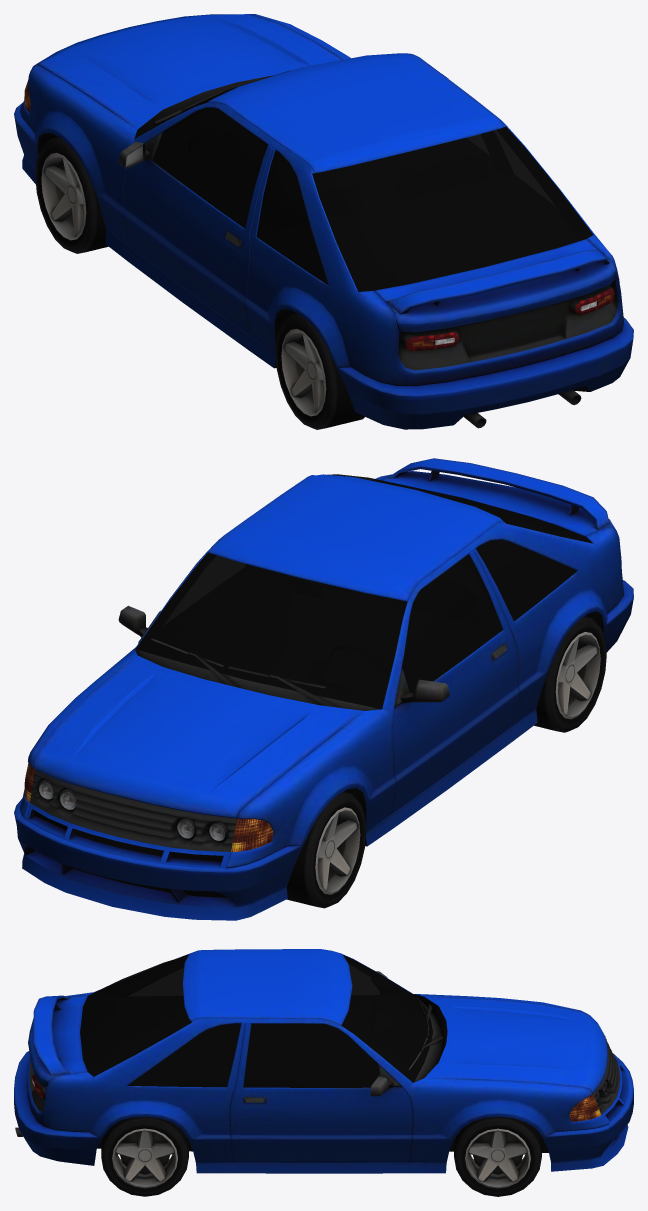
File: c_coupe.glb
3 views of the same model, one above another, from view 1: azimuth 30°, elevation 25°; view 2: azimuth 150°, elevation 25°; view 3: azimuth 270°, elevation 25° (orthographic). The views are drawn at different scales.
Visible parts, largest first — view 1: body|Body_0, body|glass, body|Wheel_0, body|Optics_0; view 2: body|Body_0, body|glass, body|Wheel_0, body|Optics_0; view 3: body|Body_0, body|glass, body|Wheel_0, body|Optics_0.
Boxes of the visible parts, x1=… form: body|Body_0: x1=14, y1=14, x2=633, y2=429; body|glass: x1=140, y1=70, x2=593, y2=291; body|Wheel_0: x1=35, y1=137, x2=364, y2=429; body|Optics_0: x1=24, y1=80, x2=614, y2=351; body|Body_0: x1=14, y1=458, x2=633, y2=920; body|glass: x1=135, y1=474, x2=592, y2=709; body|Wheel_0: x1=286, y1=616, x2=606, y2=908; body|Optics_0: x1=24, y1=763, x2=273, y2=851; body|Body_0: x1=14, y1=949, x2=633, y2=1173; body|glass: x1=80, y1=954, x2=432, y2=1087; body|Wheel_0: x1=101, y1=1116, x2=541, y2=1196; body|Optics_0: x1=32, y1=1074, x2=601, y2=1121.
Size of the model in its own units: 1.88 by 1.28 by 4.24.
Materials: 4 (3 with a texture image).
